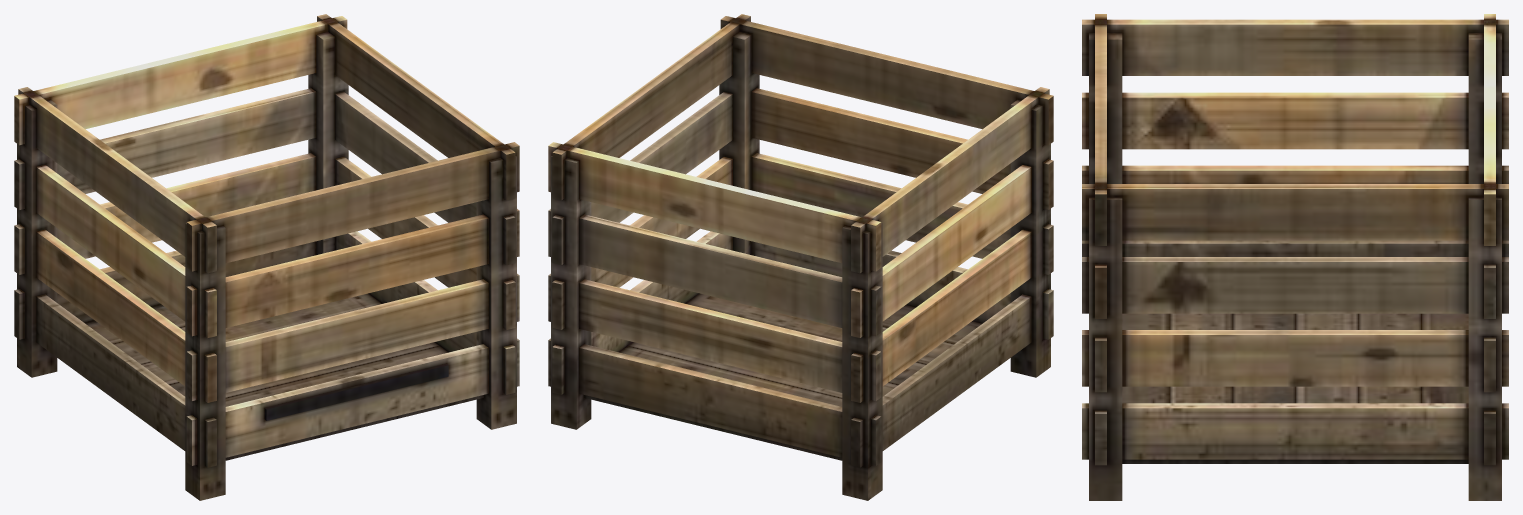
File: caixote.glb
3 renders of one model, left to right at view 1: azimuth 30°, elevation 25°; view 2: azimuth 150°, elevation 25°; view 3: azimuth 270°, elevation 25°, orthographic. The views are drawn at different scales.
Parts seen in each view (by area): view 1: caixote; view 2: caixote; view 3: caixote.
Part boxes in pixels (left/top/right/bottom): caixote: left=14, top=14, right=519, bottom=500; caixote: left=548, top=14, right=1053, bottom=500; caixote: left=1082, top=14, right=1508, bottom=500.
Size of the model in its own units: 0.9 by 0.72 by 0.9.
Materials: 1 (1 with a texture image).
